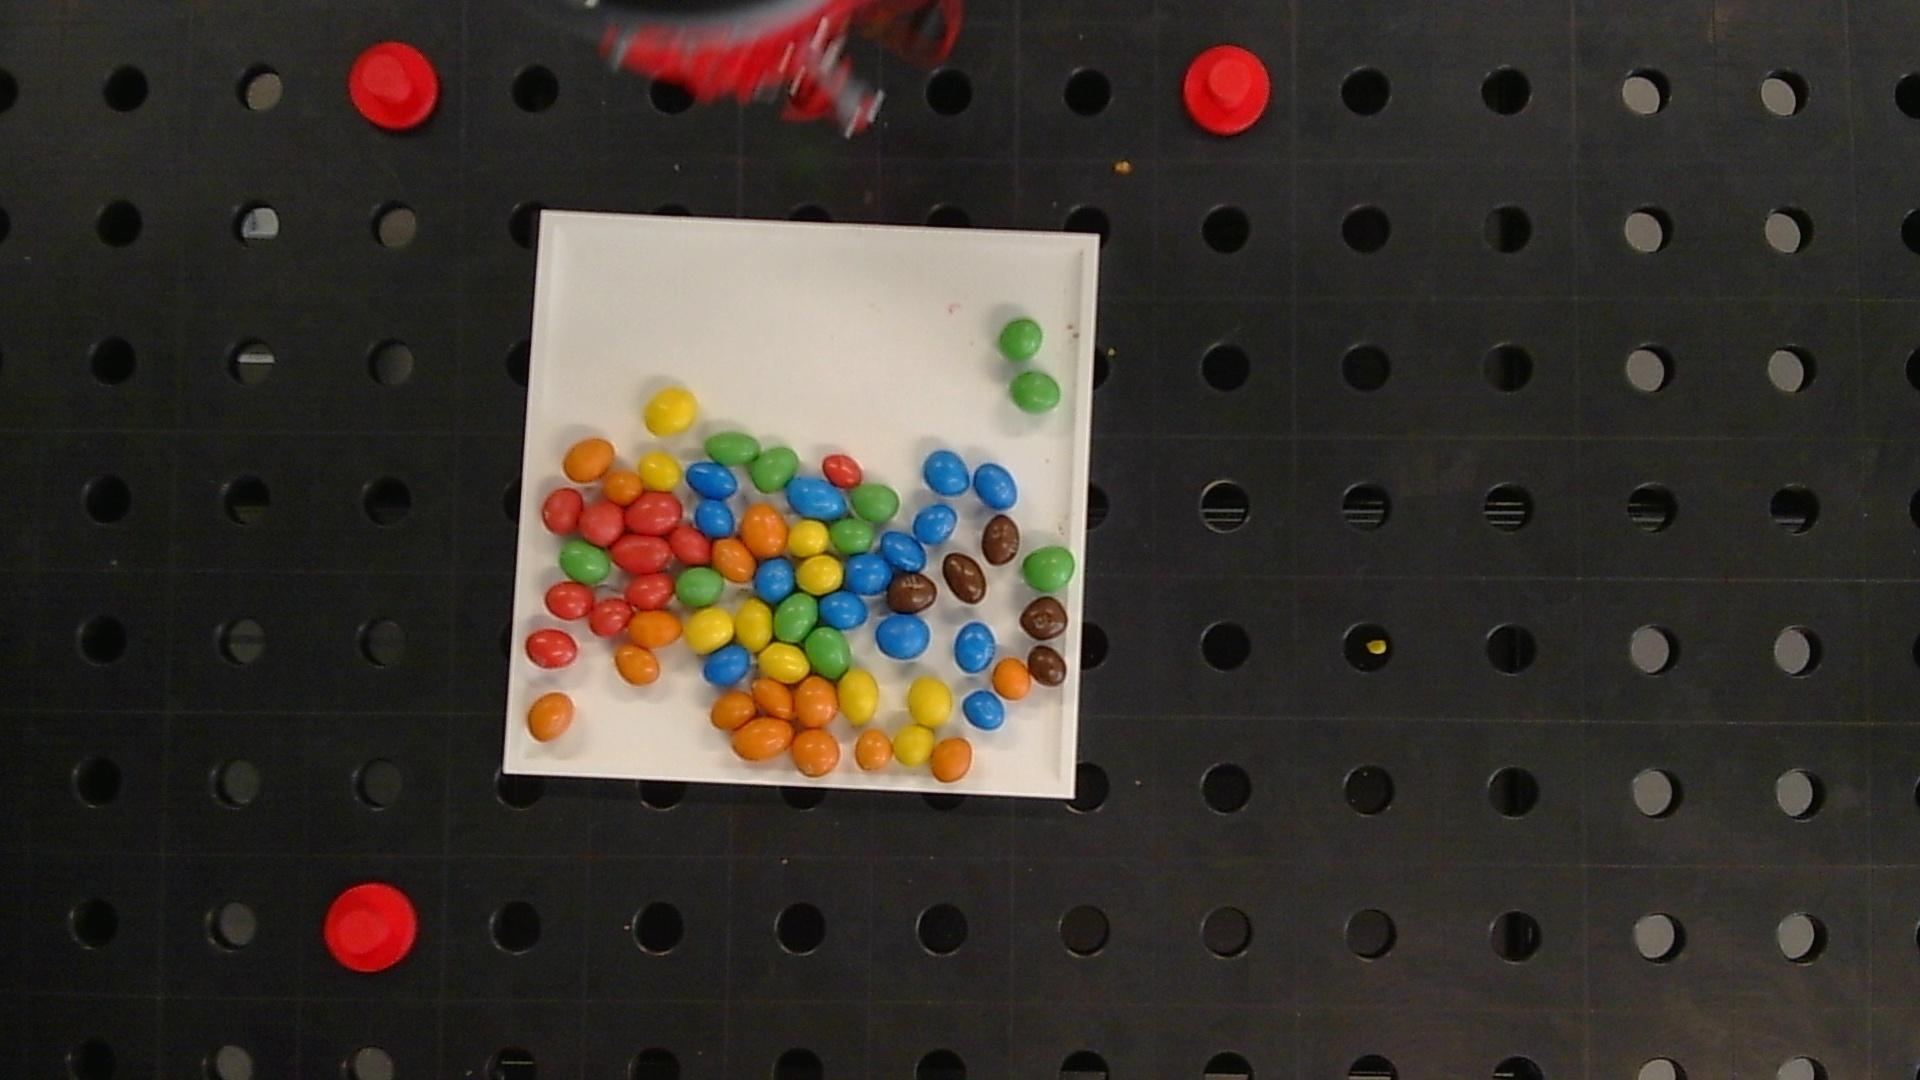blue: (786, 476, 848, 518), (876, 615, 930, 659), (923, 450, 971, 495), (973, 463, 1017, 510), (955, 622, 996, 673), (687, 462, 738, 498), (704, 645, 750, 686), (845, 554, 891, 593), (820, 591, 868, 629), (914, 504, 957, 545), (754, 558, 795, 600), (963, 691, 1006, 731), (882, 533, 926, 571), (695, 500, 736, 538)
brown: (943, 554, 986, 604), (1019, 597, 1067, 640), (889, 572, 936, 613), (981, 516, 1021, 564), (1027, 645, 1067, 686)
green: (1023, 547, 1075, 591), (559, 541, 611, 584), (1010, 371, 1062, 413), (749, 447, 798, 491), (807, 629, 851, 678), (774, 593, 818, 642), (849, 484, 899, 524), (998, 319, 1044, 361), (705, 431, 760, 464), (676, 568, 723, 607), (829, 518, 874, 554)
orange: (732, 717, 794, 760), (741, 505, 786, 558), (791, 729, 841, 775), (527, 692, 575, 740), (563, 438, 615, 480), (795, 676, 837, 727), (712, 537, 756, 583), (629, 611, 682, 647), (932, 737, 972, 782), (615, 645, 659, 684), (711, 692, 754, 729), (855, 729, 893, 770), (993, 658, 1031, 699), (753, 679, 794, 717), (604, 471, 642, 502)
red: (611, 534, 671, 572), (628, 493, 680, 533), (526, 629, 578, 667), (582, 502, 624, 545), (545, 583, 593, 618), (542, 488, 582, 531), (589, 596, 633, 636), (626, 574, 674, 608), (670, 526, 711, 563), (822, 454, 862, 487)
yellow: (645, 388, 698, 435), (684, 608, 735, 653), (839, 671, 880, 724), (909, 678, 952, 727), (735, 600, 773, 647), (760, 644, 807, 680), (893, 725, 935, 766), (798, 555, 843, 592), (640, 452, 682, 489), (787, 521, 828, 556)
